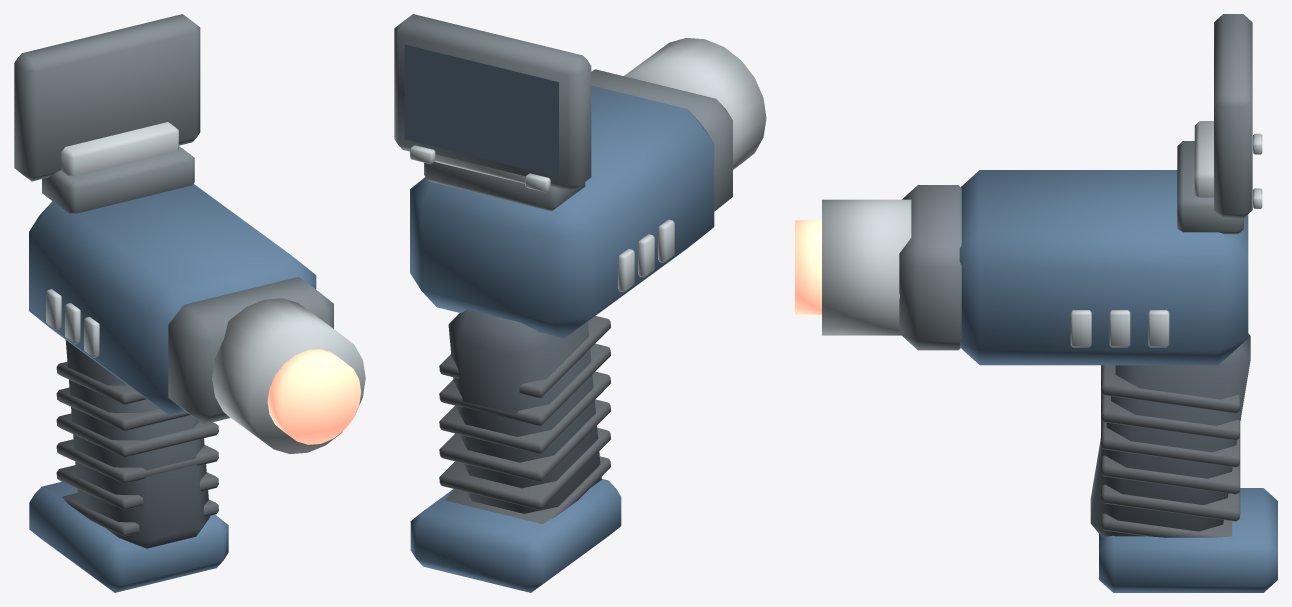
Rendered from demolisher_standard.glb.
3 views of the same model, side by side, from view 1: azimuth 30°, elevation 25°; view 2: azimuth 150°, elevation 25°; view 3: azimuth 270°, elevation 25° (orthographic). The views are drawn at different scales.
Parts seen in each view (by area): view 1: ToolBody_navy, LiveViewSurfaceFrame_frame, Grip_black, Ram_steel, Battery_navy, GripRib_rubber, NoseHousing_frame, RamTip_red, DisplayMount_frame, DisplayBracket_steel, HousingVent_steel; view 2: ToolBody_navy, Grip_black, LiveViewSurface_glass, GripRib_rubber, Battery_navy, LiveViewSurfaceFrame_frame, Ram_steel, NoseHousing_frame, DisplayMount_frame, HousingVent_steel, DisplayControls_steel, DisplayBracket_steel; view 3: ToolBody_navy, Grip_black, GripRib_rubber, Battery_navy, Ram_steel, NoseHousing_frame, LiveViewSurfaceFrame_frame, DisplayMount_frame, RamTip_red, HousingVent_steel, DisplayBracket_steel.
Part boxes in pixels (x1=…): ToolBody_navy: x1=29, y1=184, x2=316, y2=416; LiveViewSurfaceFrame_frame: x1=14, y1=14, x2=200, y2=181; Grip_black: x1=65, y1=340, x2=209, y2=548; Ram_steel: x1=212, y1=298, x2=365, y2=453; Battery_navy: x1=29, y1=481, x2=228, y2=592; GripRib_rubber: x1=56, y1=362, x2=218, y2=536; NoseHousing_frame: x1=168, y1=277, x2=333, y2=424; RamTip_red: x1=267, y1=349, x2=360, y2=444; DisplayMount_frame: x1=42, y1=146, x2=194, y2=213; DisplayBracket_steel: x1=61, y1=122, x2=178, y2=176; HousingVent_steel: x1=46, y1=289, x2=99, y2=357; ToolBody_navy: x1=410, y1=85, x2=714, y2=338; Grip_black: x1=448, y1=309, x2=601, y2=513; LiveViewSurface_glass: x1=404, y1=44, x2=558, y2=176; GripRib_rubber: x1=439, y1=316, x2=610, y2=523; Battery_navy: x1=410, y1=479, x2=621, y2=592; LiveViewSurfaceFrame_frame: x1=394, y1=14, x2=591, y2=191; Ram_steel: x1=624, y1=38, x2=766, y2=169; NoseHousing_frame: x1=591, y1=69, x2=732, y2=211; DisplayMount_frame: x1=424, y1=162, x2=585, y2=211; HousingVent_steel: x1=618, y1=219, x2=674, y2=292; DisplayControls_steel: x1=410, y1=145, x2=550, y2=192; DisplayBracket_steel: x1=434, y1=154, x2=524, y2=183; ToolBody_navy: x1=959, y1=170, x2=1248, y2=365; Grip_black: x1=1090, y1=333, x2=1250, y2=536; GripRib_rubber: x1=1101, y1=365, x2=1240, y2=537; Battery_navy: x1=1099, y1=488, x2=1277, y2=592; Ram_steel: x1=822, y1=199, x2=911, y2=335; NoseHousing_frame: x1=899, y1=185, x2=961, y2=350; LiveViewSurfaceFrame_frame: x1=1214, y1=14, x2=1252, y2=218; DisplayMount_frame: x1=1177, y1=141, x2=1243, y2=234; RamTip_red: x1=795, y1=220, x2=821, y2=314; HousingVent_steel: x1=1070, y1=310, x2=1169, y2=347; DisplayBracket_steel: x1=1194, y1=121, x2=1213, y2=197.
Size of the model in its own units: 0.371 by 0.95 by 0.81.
